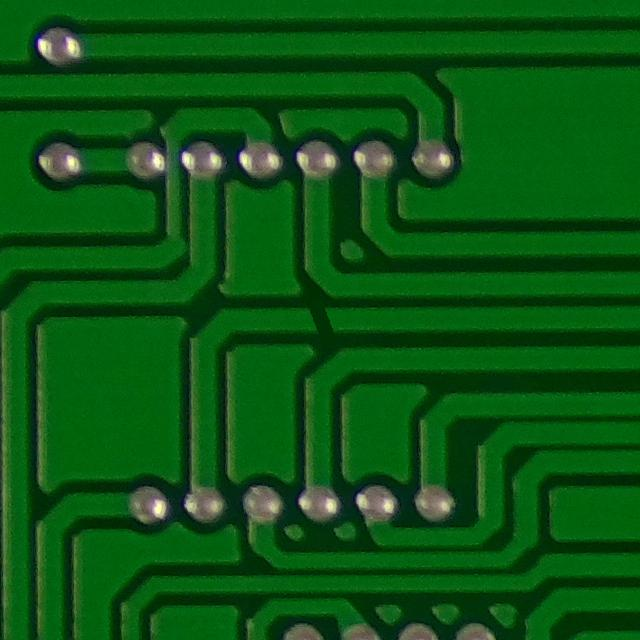open_circuit: (298, 300, 343, 341)
